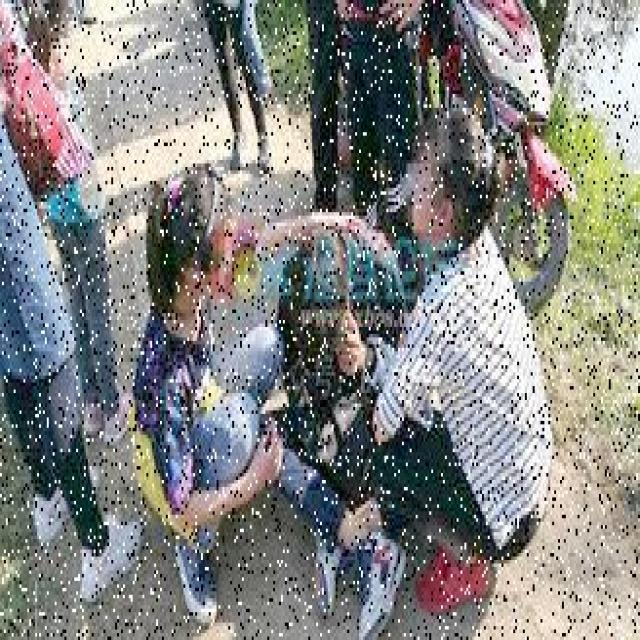fall: (269, 233, 400, 622)
